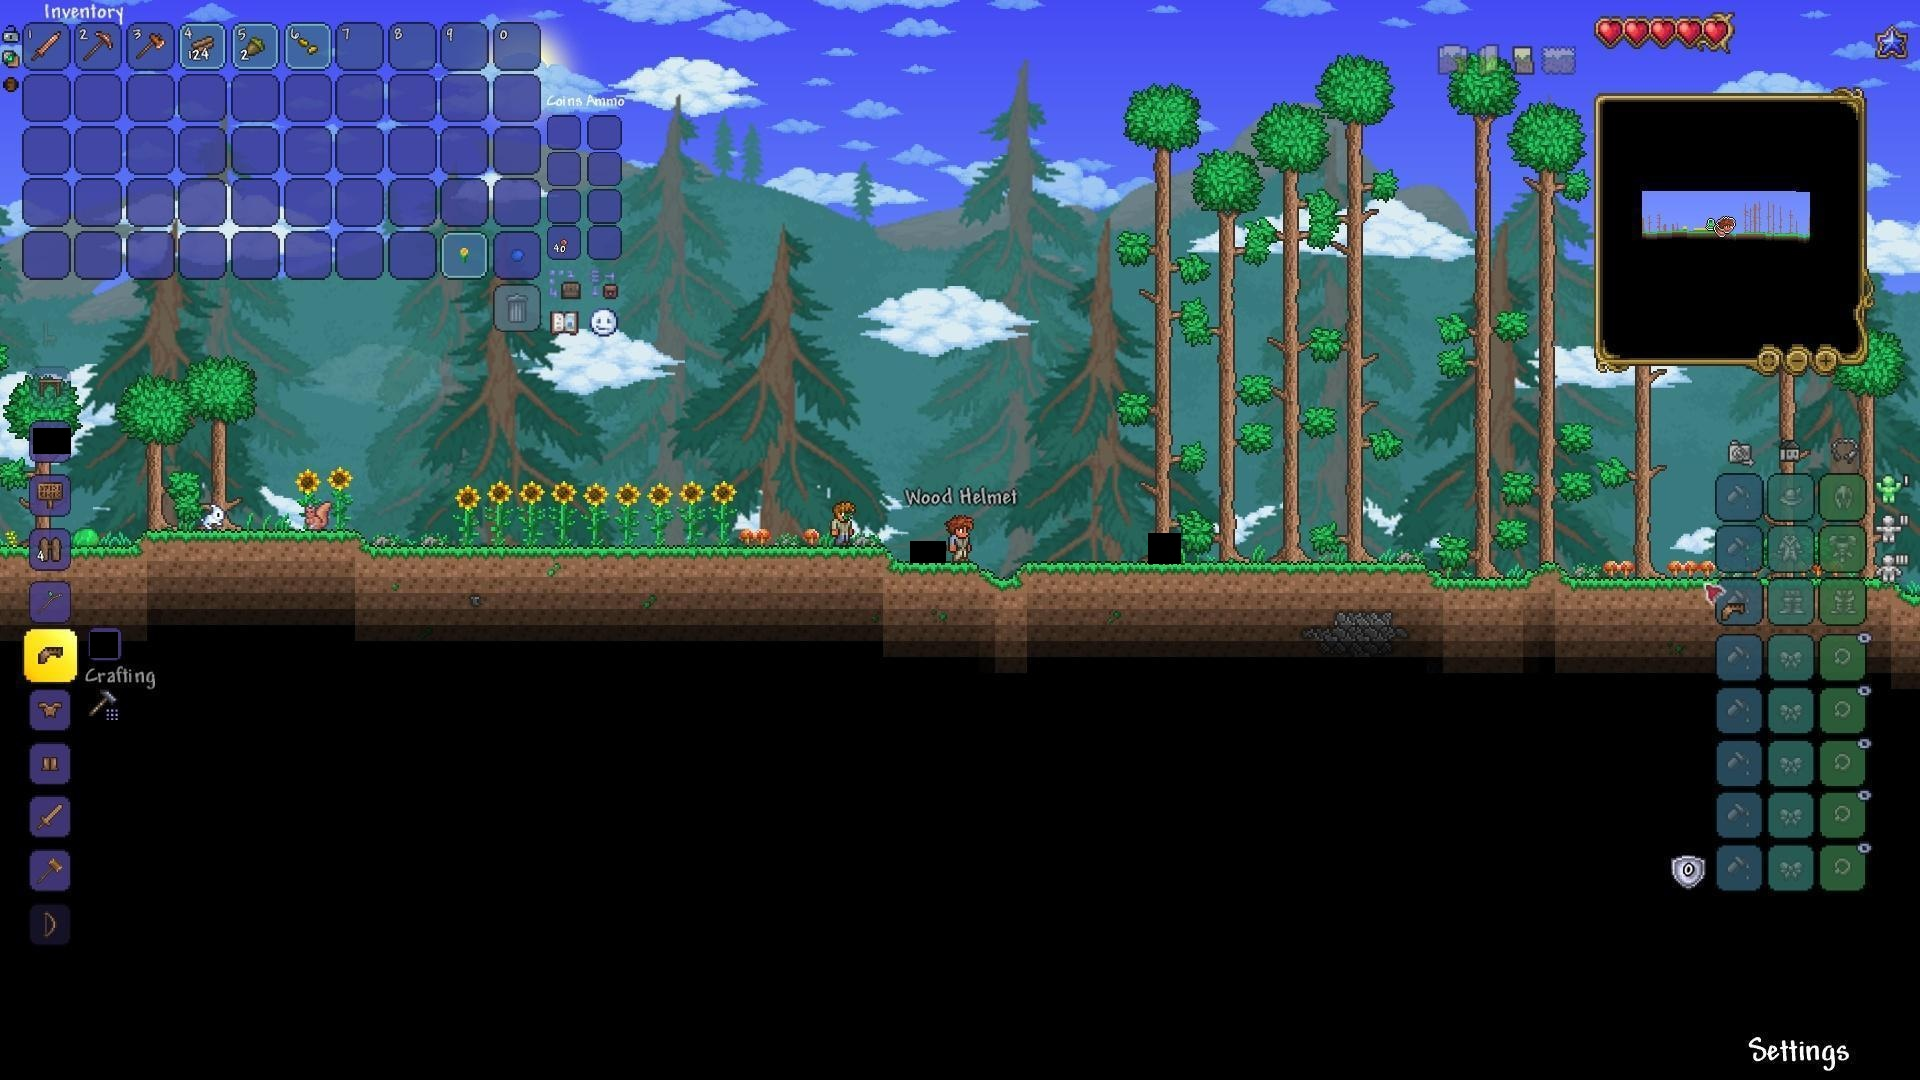breastplate: (34, 698, 65, 719)
helmet: (37, 640, 67, 667), (1718, 600, 1749, 626)
legs: (40, 748, 65, 777)
slime: (75, 525, 100, 553)
wood: (187, 36, 214, 61)
